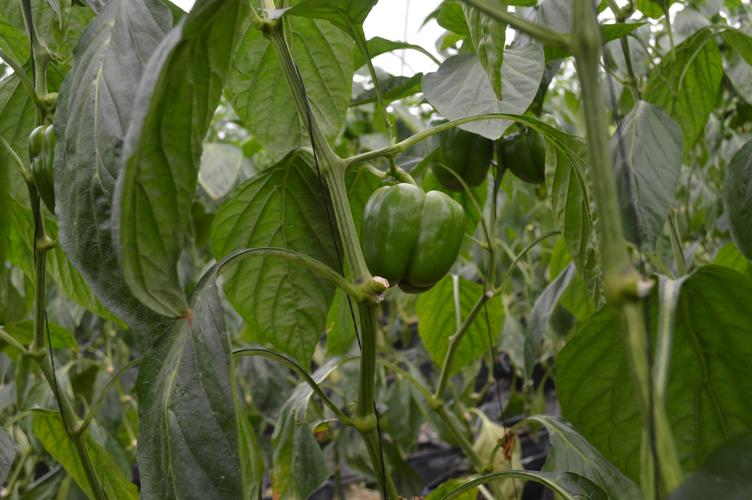BellPepper: (350, 183, 470, 303), (425, 113, 499, 187), (497, 127, 559, 189)
